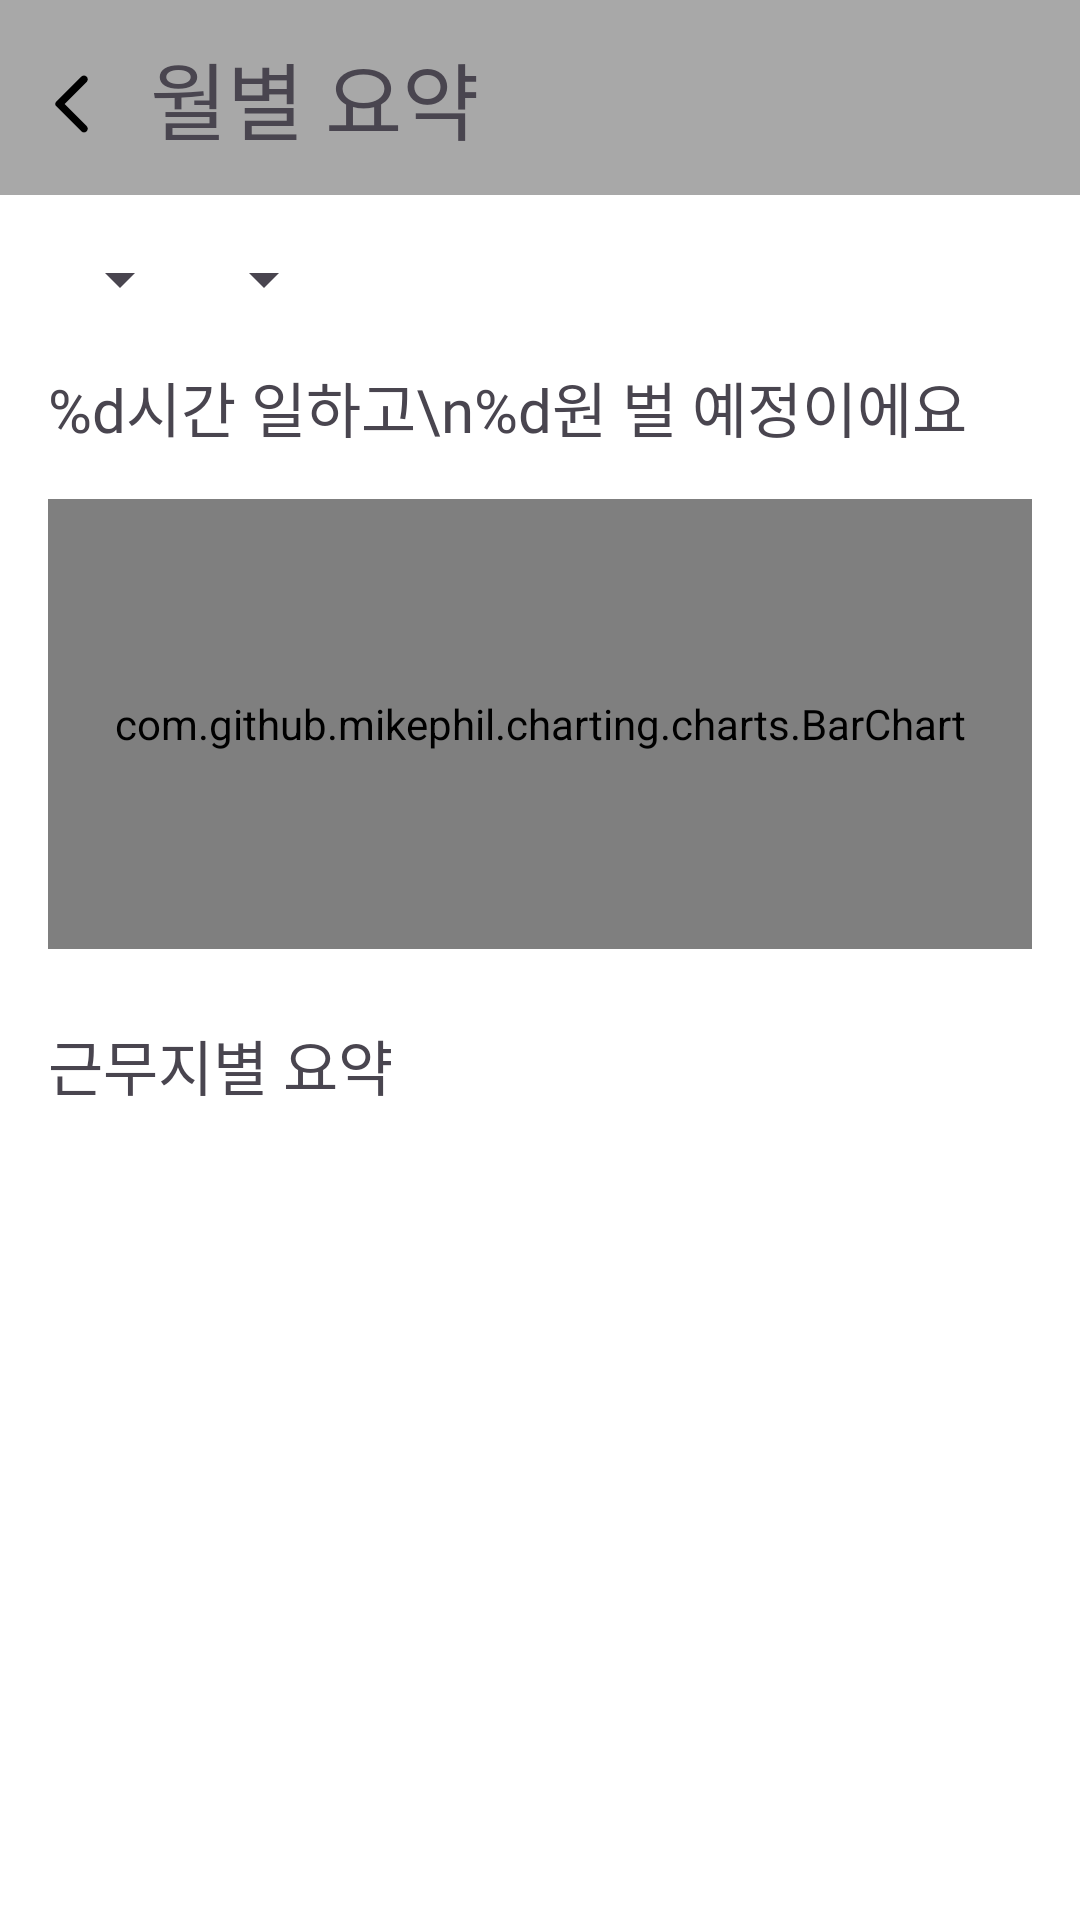

Where to tap for icons on this 1080 × 1920 app screen, as (x=x, y=y):
back: (x=71, y=104)
